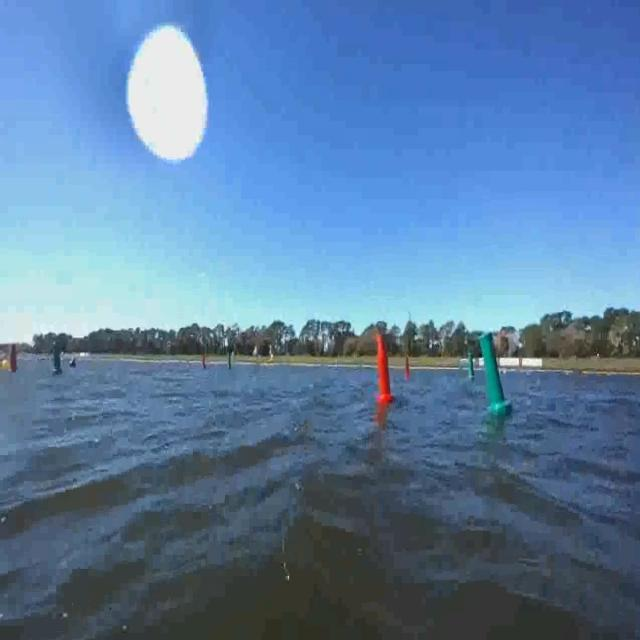black-buoy: (69, 356, 77, 369)
green-column-buoy: (480, 333, 512, 418), (51, 338, 65, 376), (470, 350, 478, 379), (226, 350, 233, 370)
red-column-buoy: (375, 333, 394, 402), (8, 342, 20, 374), (406, 356, 413, 379), (202, 352, 208, 370)
yellow-buoy: (2, 358, 10, 369)
